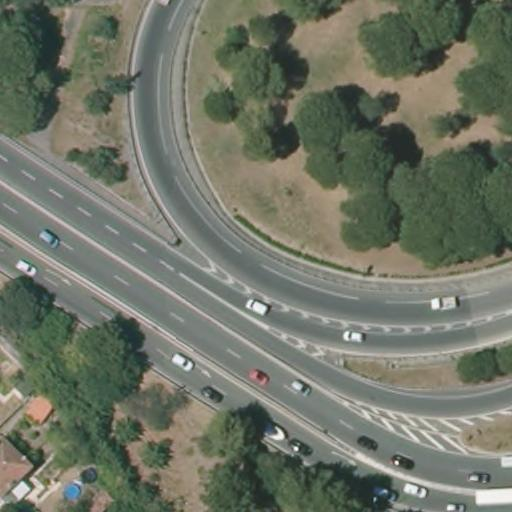pool: (61, 479, 85, 500)
